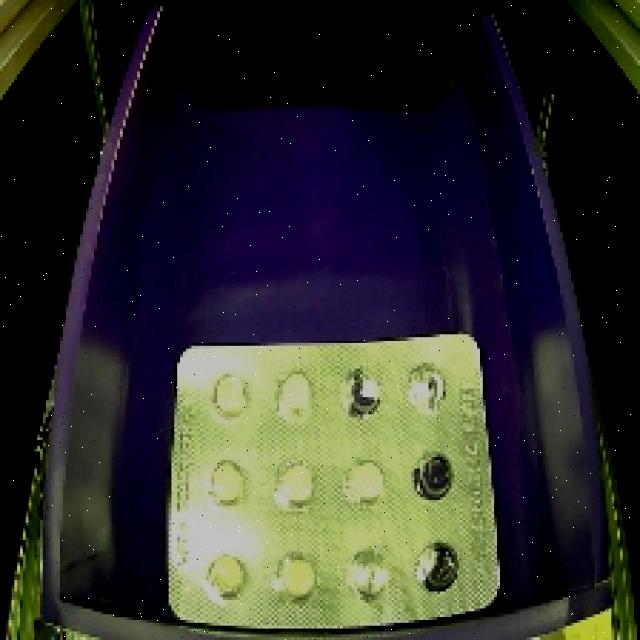med_plate: (151, 314, 520, 640)
